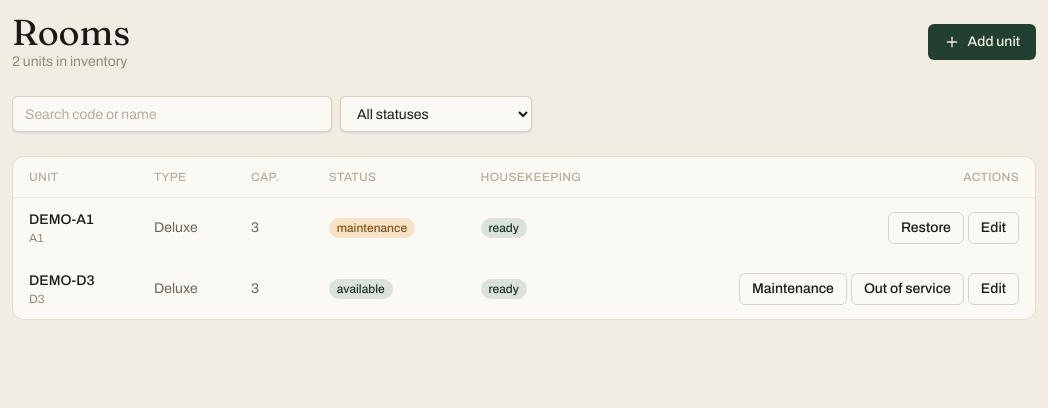
RoomsPage — closing a unit with bookings ahead › lets the question be dismissed without changing anything
What coordinates should you click on to do the following:
click the button "Maintenance"
I would click on:
 (793, 289)
Its box is [739,273,847,305].
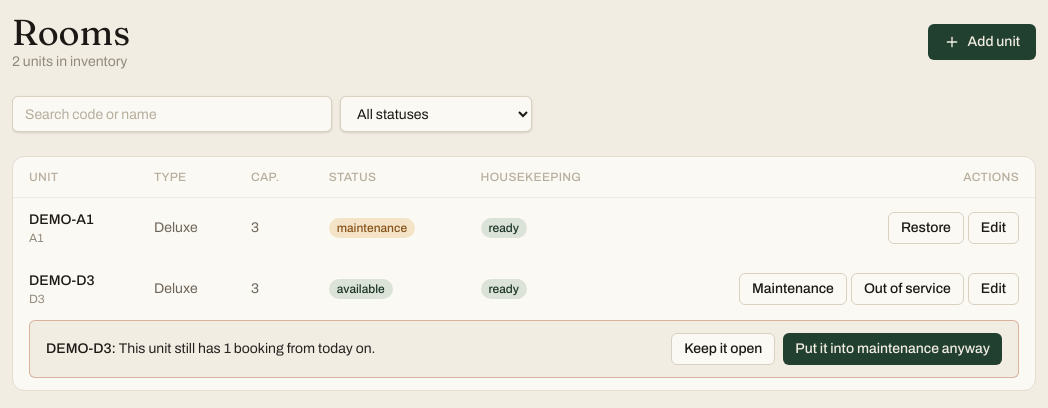
What coordinates should you click on to do the following:
click the button "Keep it open"
I would click on:
 (723, 349)
Its box is [671,333,775,365].
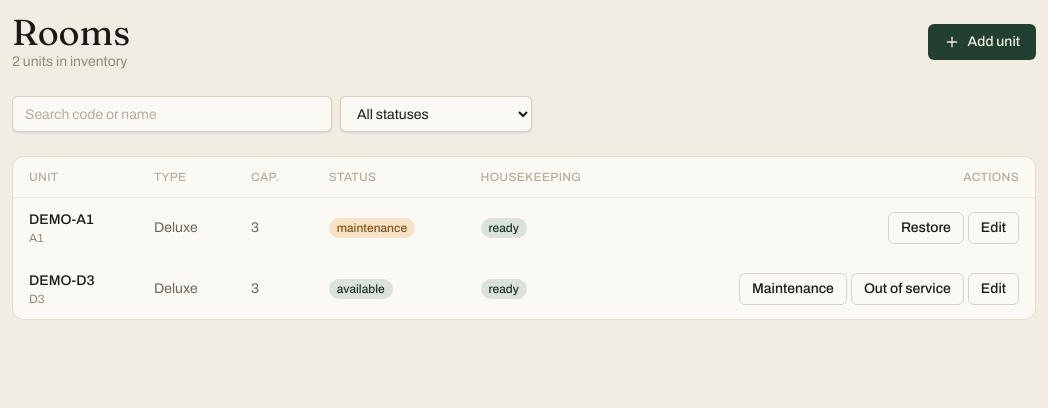
Result: the message is gone
